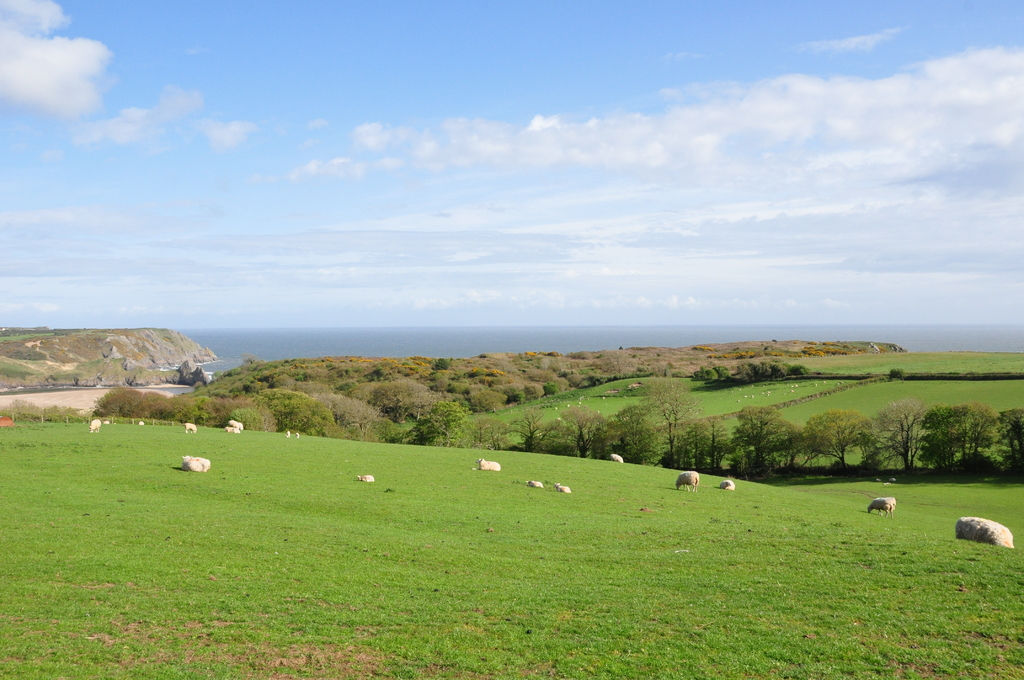sheep: (866, 496, 892, 518), (674, 470, 696, 491), (178, 455, 210, 468), (478, 457, 499, 470), (182, 421, 197, 434), (720, 478, 737, 489), (87, 418, 101, 431), (357, 471, 376, 480), (224, 426, 238, 435), (526, 480, 543, 487), (555, 482, 569, 490), (609, 452, 620, 461)
